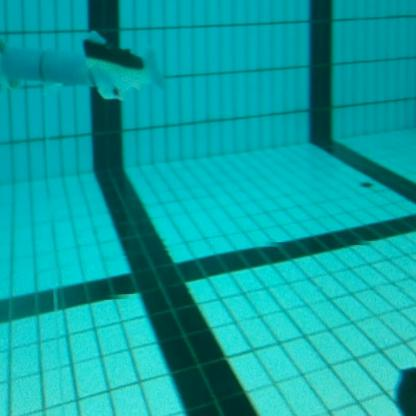tail: (79, 23, 166, 104)
